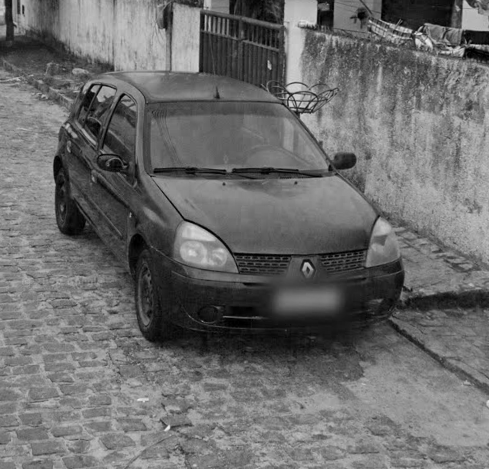car: (49, 47, 405, 343)
